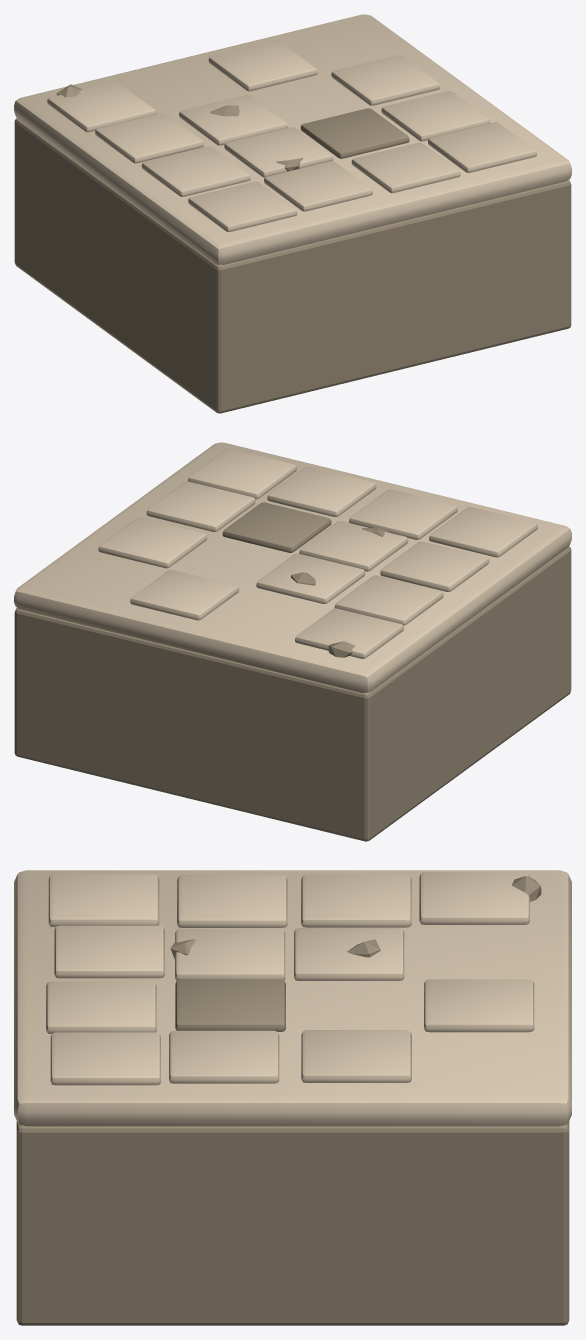
File: tile_path.glb
The picture shows the model from 3 angles, top to bottom: view 1: azimuth 30°, elevation 25°; view 2: azimuth 150°, elevation 25°; view 3: azimuth 270°, elevation 25°; orthographic projection. The views are drawn at different scales.
Visible parts, largest first — view 1: pa_body, pa_cap, pa_slab20, pa_slab21, pa_slab23, pa_slab32, pa_slab10, pa_slab30, pa_slab00, pa_slab01, pa_slab02, pa_slab31 (+3 smaller); view 2: pa_body, pa_cap, pa_slab20, pa_slab21, pa_slab01, pa_slab23, pa_slab32, pa_slab00, pa_slab31, pa_slab10, pa_slab02, pa_slab30 (+3 smaller); view 3: pa_body, pa_cap, pa_slab02, pa_slab10, pa_slab23, pa_slab31, pa_slab30, pa_slab32, pa_slab01, pa_slab00, pa_slab21, pa_slab20 (+3 smaller).
Boxes of the visible parts, x1,y1,x2,y2 form: pa_body: (14,118,571,413); pa_cap: (14,14,571,264); pa_slab20: (351,142,460,193); pa_slab21: (300,108,409,158); pa_slab23: (208,40,317,91); pa_slab32: (331,55,440,105); pa_slab10: (264,161,372,211); pa_slab30: (428,122,536,172); pa_slab00: (188,181,297,232); pa_slab01: (141,146,250,196); pa_slab02: (95,113,203,163); pa_slab31: (381,91,490,141); pa_body: (14,546,571,841); pa_cap: (14,442,571,692); pa_slab20: (267,466,376,517); pa_slab21: (222,502,331,552); pa_slab01: (380,541,489,591); pa_slab23: (130,570,239,620); pa_slab32: (98,517,207,568); pa_slab00: (429,507,537,557); pa_slab31: (146,481,255,531); pa_slab10: (349,489,457,539); pa_slab02: (334,575,443,625); pa_slab30: (188,448,296,499); pa_body: (16,1121,569,1325); pa_cap: (14,870,571,1126); pa_slab02: (301,874,411,927); pa_slab10: (54,925,164,978); pa_slab23: (424,979,534,1032); pa_slab31: (169,1030,279,1083); pa_slab30: (50,1032,160,1085); pa_slab32: (301,1030,411,1082); pa_slab01: (177,875,287,927); pa_slab00: (48,874,159,926); pa_slab21: (175,979,285,1031); pa_slab20: (46,981,156,1033).
Size of the model in its own units: 2.02 by 0.979 by 2.02.
